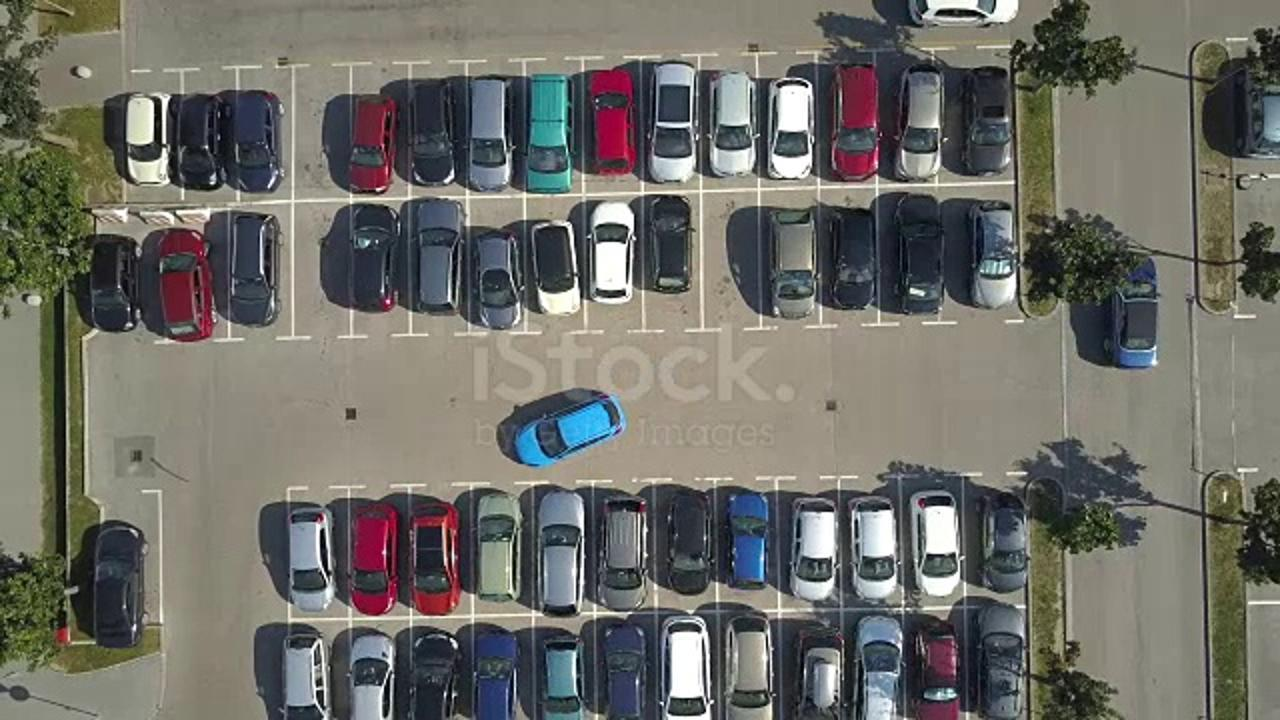car: (511, 394, 632, 462), (154, 218, 217, 342), (531, 492, 589, 618), (846, 500, 907, 609), (345, 197, 400, 314), (409, 497, 464, 614), (229, 209, 284, 326), (786, 494, 841, 611), (285, 503, 340, 620), (595, 494, 650, 611), (834, 67, 893, 173), (469, 227, 524, 337), (464, 77, 517, 188), (527, 72, 576, 192), (657, 617, 713, 720), (645, 194, 699, 300), (651, 62, 697, 178), (587, 199, 635, 310), (707, 74, 760, 174), (729, 495, 784, 590), (229, 92, 288, 180), (585, 68, 633, 176), (408, 82, 455, 192), (343, 91, 393, 193), (958, 72, 1008, 172), (122, 96, 177, 186), (726, 622, 779, 715), (535, 635, 591, 720), (767, 81, 816, 175), (903, 63, 944, 173), (914, 494, 958, 595), (672, 494, 710, 592), (184, 97, 218, 191), (920, 0, 1014, 28)
